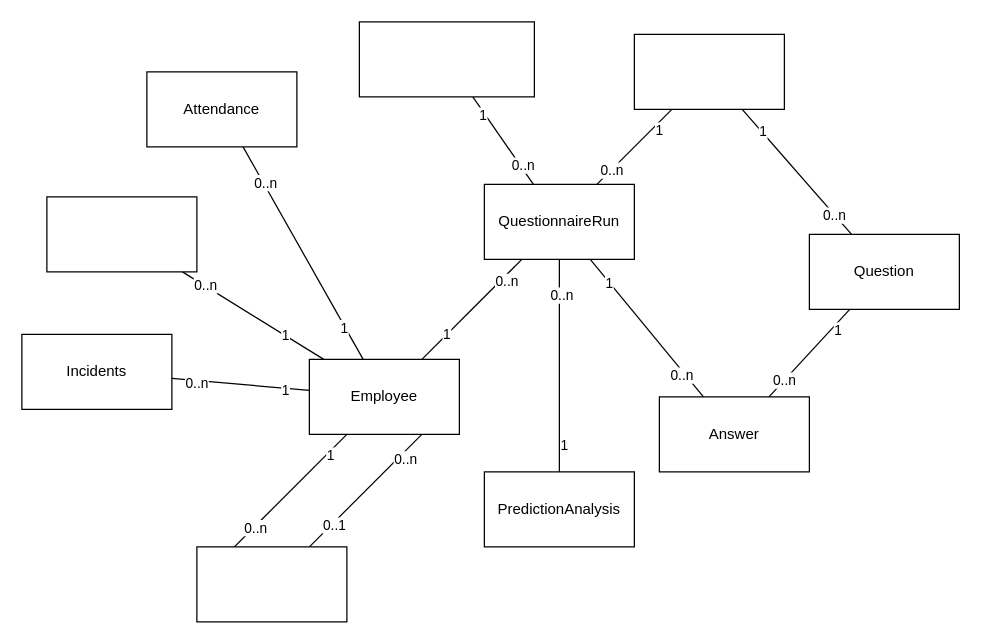
This 981x644 diagram has some shape labels left out. Here are the shapes that lost their labels. From the top down, the centre of each, then its label:
(x=446, y=59): QuestionnaireRunStatus
(x=708, y=71): Questionnaire
(x=121, y=234): Commits
(x=271, y=584): Team
